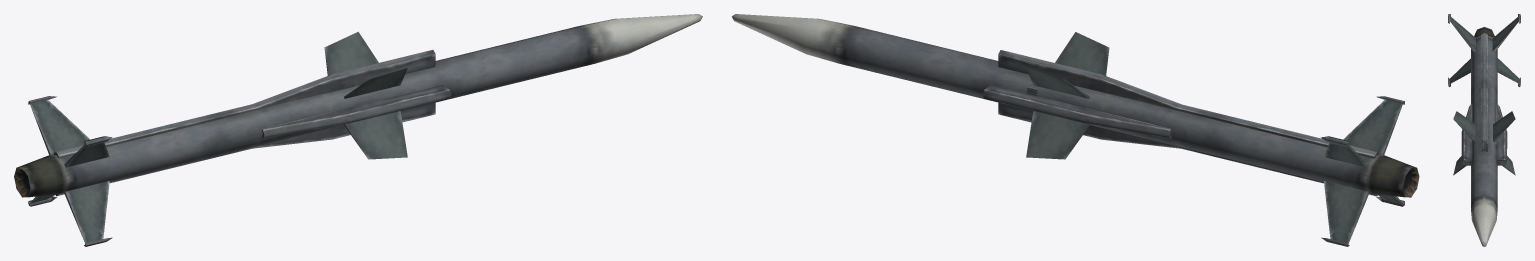
The model's file is projectile_sa6_missile_desert_mp_LOD0.obj.
3 renders of one model, left to right at view 1: azimuth 30°, elevation 25°; view 2: azimuth 150°, elevation 25°; view 3: azimuth 270°, elevation 25°, orthographic. The views are drawn at different scales.
Visible parts, largest first — view 1: mtl_sa6_missile_desert; view 2: mtl_sa6_missile_desert; view 3: mtl_sa6_missile_desert.
Part boxes in pixels (<box>): mtl_sa6_missile_desert: <box>14,14,702,246</box>; mtl_sa6_missile_desert: <box>731,14,1419,246</box>; mtl_sa6_missile_desert: <box>1448,14,1520,246</box>.
Bounding box in the file's own units: 1244 × 183 × 183.
